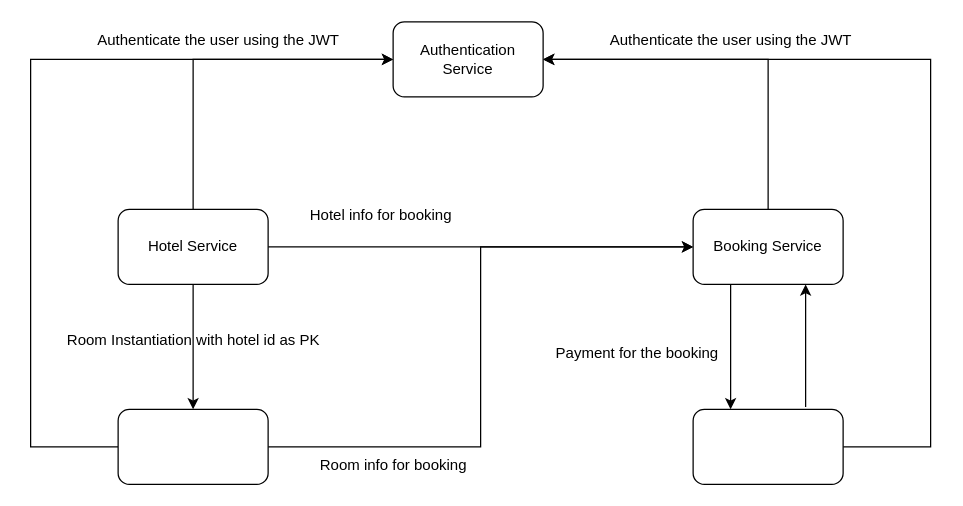
Some shapes in this 963 by 506 pixel diagram are drawn without their labels. The centre of each missing label's shape, as x and y in pixels:
Payment Service: (x=767, y=446)
Room Service: (x=192, y=446)
